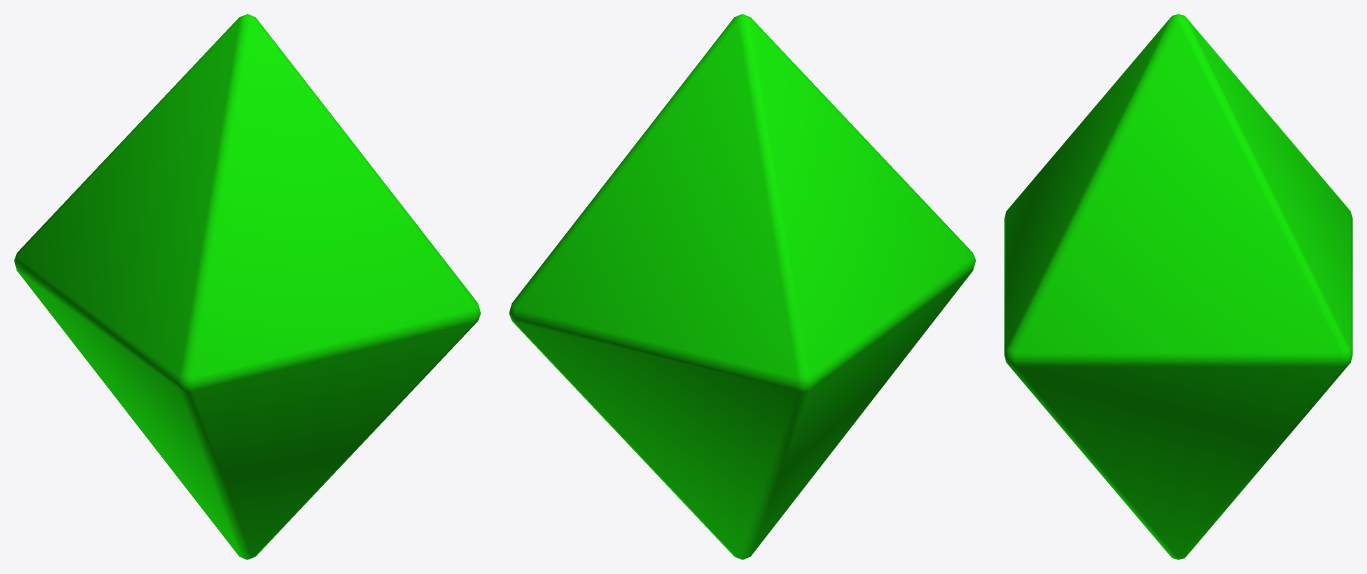
Rendered from PiramidaSIMS.fbx.
3 renders of one model, left to right at view 1: azimuth 30°, elevation 25°; view 2: azimuth 150°, elevation 25°; view 3: azimuth 270°, elevation 25°, orthographic.
Visible parts, largest first — view 1: Kristall.001; view 2: Kristall.001; view 3: Kristall.001.
Boxes of the visible parts, box(x1,y1,x2,y2) form: Kristall.001: box(14, 14, 480, 559); Kristall.001: box(509, 14, 975, 559); Kristall.001: box(1004, 14, 1352, 559).
Size of the model in its own units: 121 by 210 by 121.
